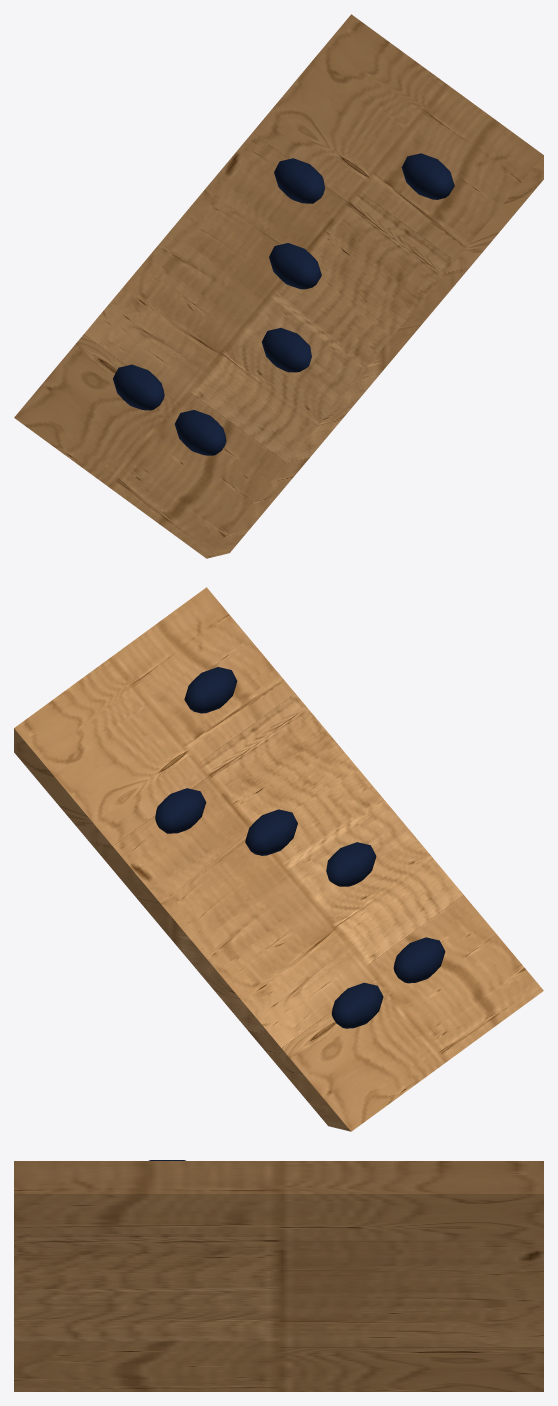
The model's file is playground_scale_wall.obj.
3 renders of one model, top to bottom at view 1: azimuth 30°, elevation 25°; view 2: azimuth 150°, elevation 25°; view 3: azimuth 270°, elevation 25°, orthographic. The views are drawn at different scales.
Visible parts, largest first — view 1: Cube.006; view 2: Cube.006; view 3: Cube.006.
Boxes of the visible parts, x1=… form: Cube.006: x1=14, y1=14, x2=543, y2=558; Cube.006: x1=14, y1=587, x2=543, y2=1131; Cube.006: x1=14, y1=1160, x2=543, y2=1391.
Size of the model in its own units: 0.4834 by 0.4399 by 0.4781.
